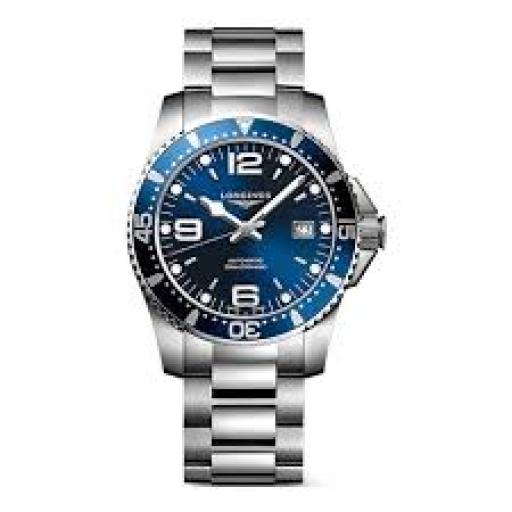KolSaati: (105, 12, 391, 497)
